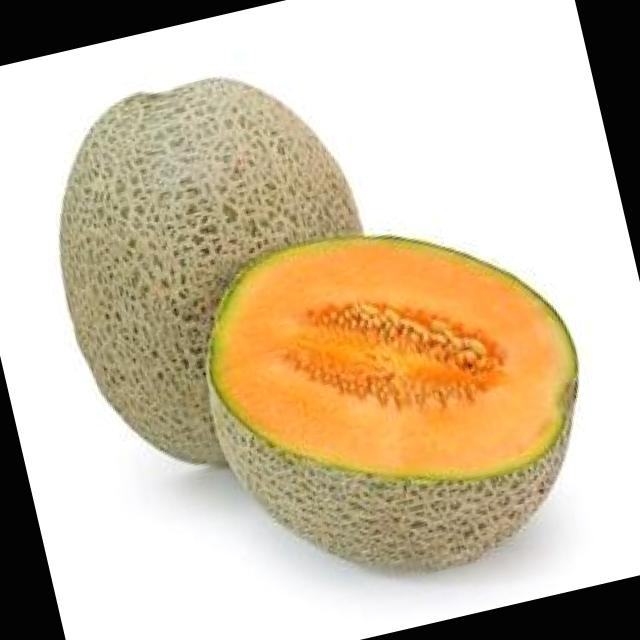cantaloupe: (176, 183, 618, 616), (26, 50, 408, 491)
